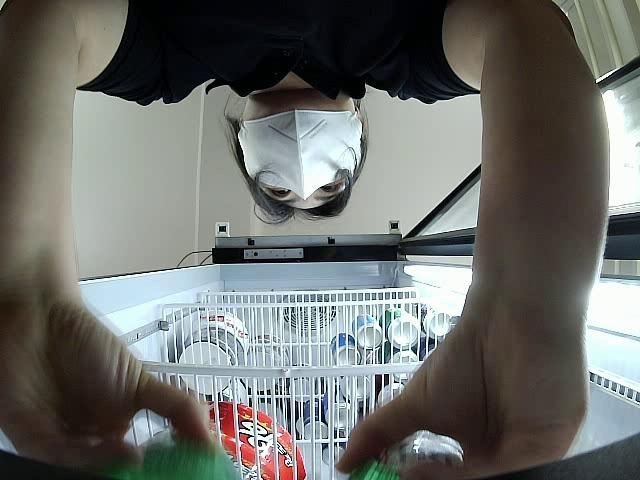18_trevi: (347, 416, 474, 480), (96, 429, 246, 480)
